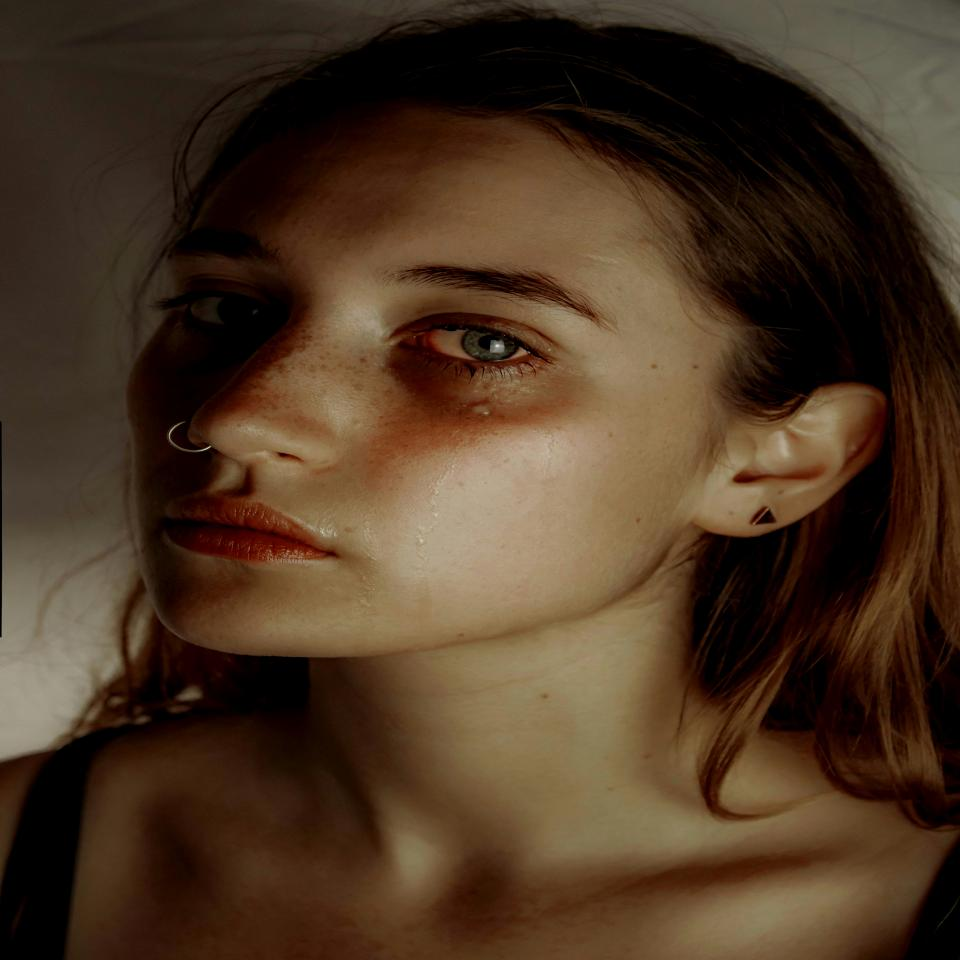Sadness: (80, 105, 781, 670)
